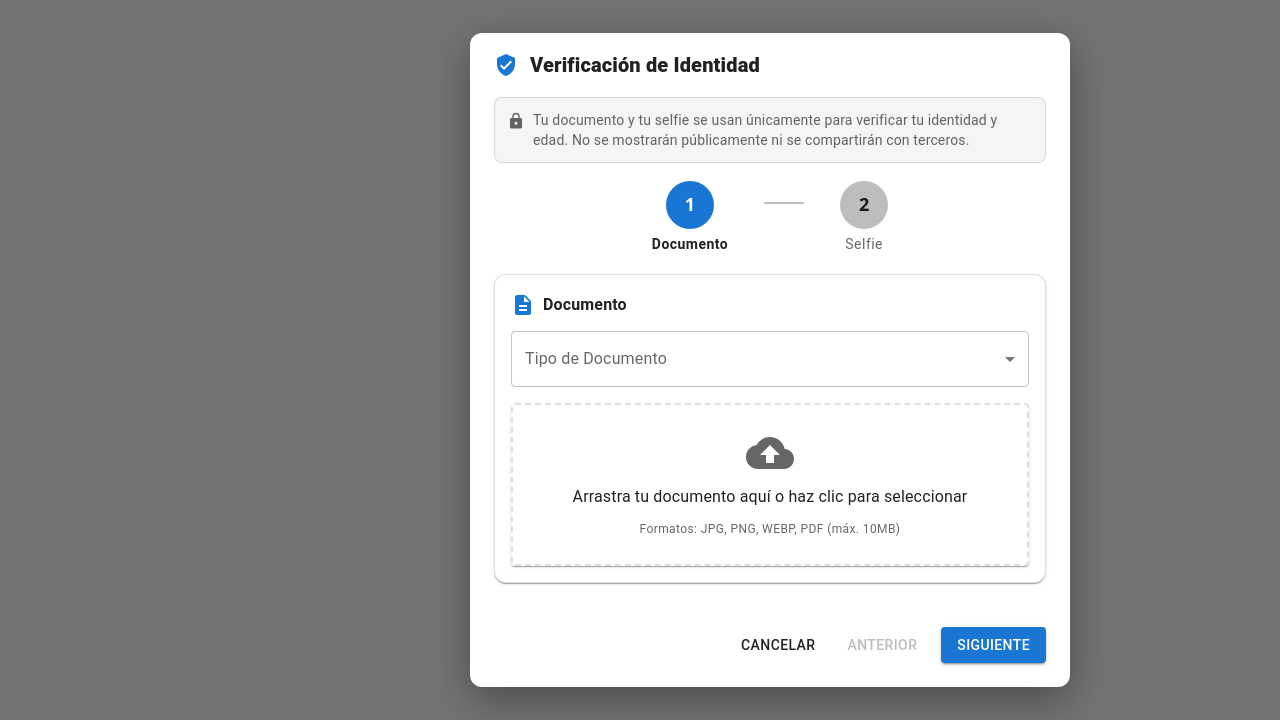
it: IdentityVerificationDialog (paginated wizard) › keeps Enviar disabled on the last page until the document is complete
This screenshot has width=1280, height=720.
Click the button "Siguiente": x=994, y=645 [941,627,1046,663]
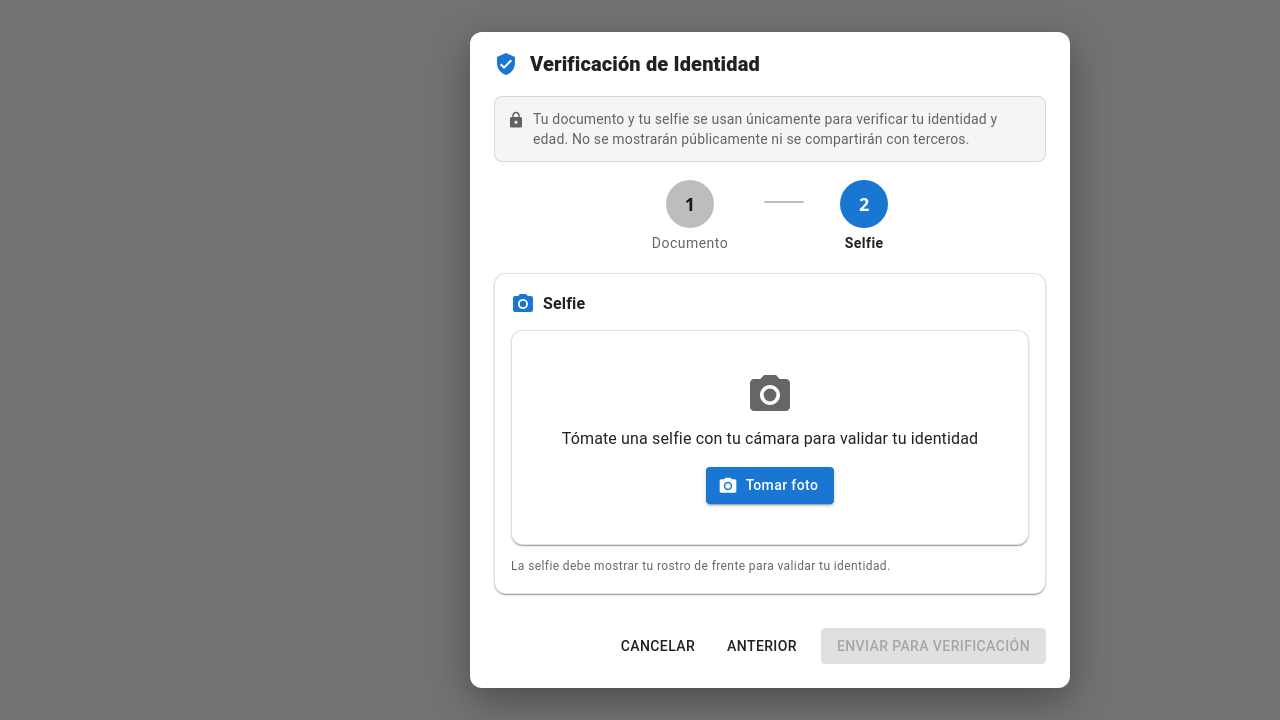
Expected: the button "Enviar para Verificación" is disabled, [821,628,1046,664]
